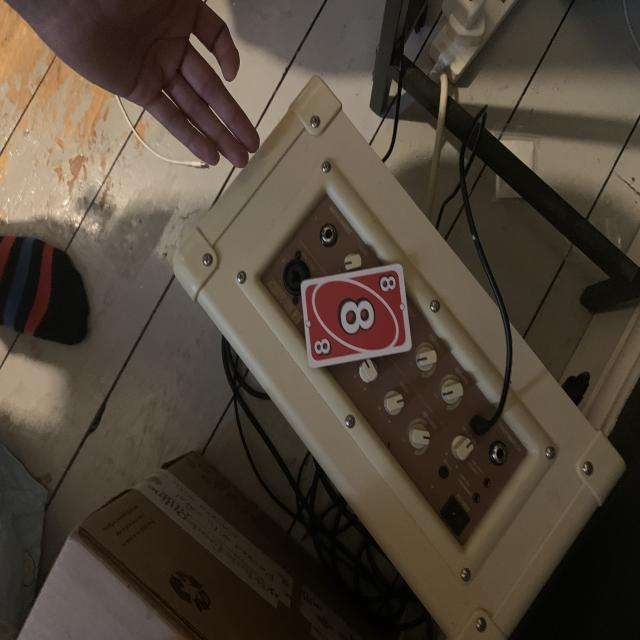lred-8: (375, 270, 399, 295)
